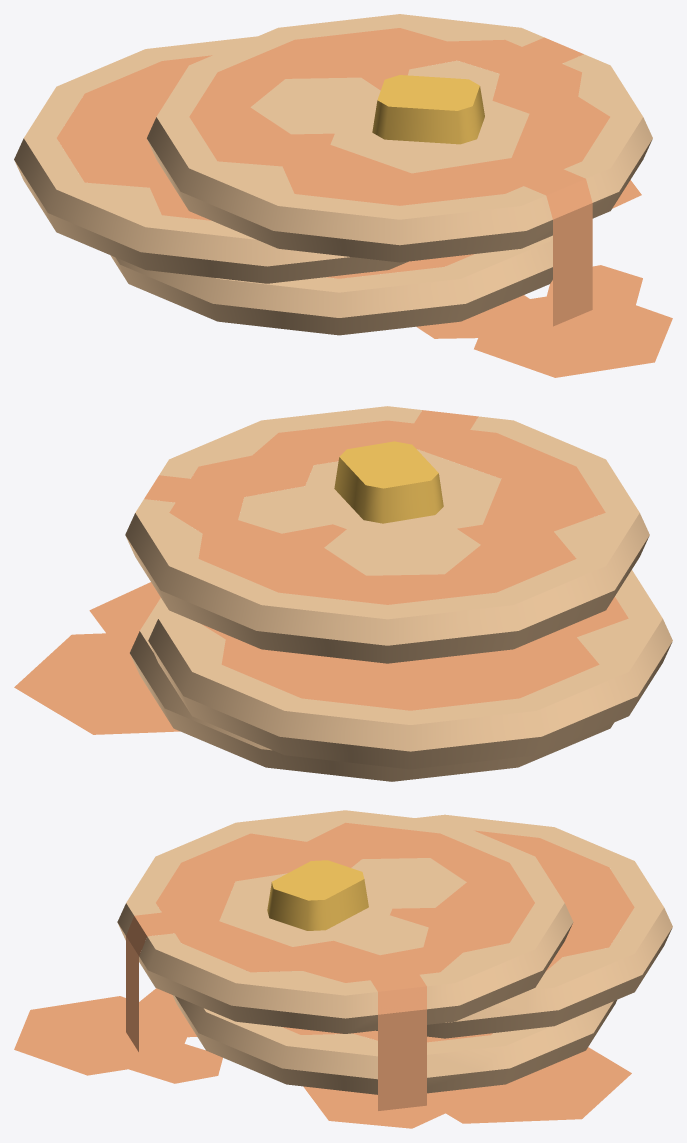
The model's file is pancakes.glb.
3 renders of one model, top to bottom at view 1: azimuth 30°, elevation 25°; view 2: azimuth 150°, elevation 25°; view 3: azimuth 270°, elevation 25°, orthographic. The views are drawn at different scales.
Visible parts, largest first — view 1: pancake, pancakes, butter; view 2: pancake, pancakes, butter; view 3: pancake, pancakes, butter.
Boxes of the visible parts, x1,y1,x2,y2 form: pancake: (14, 14, 652, 335); pancakes: (57, 28, 672, 377); butter: (372, 75, 484, 144); pancake: (125, 406, 672, 781); pancakes: (14, 410, 628, 734); butter: (334, 441, 443, 523); pancake: (117, 810, 672, 1094); pancakes: (14, 822, 634, 1128); butter: (267, 860, 368, 930).
Bounding box in the file's own units: 0.4355 × 0.1216 × 0.5039.
